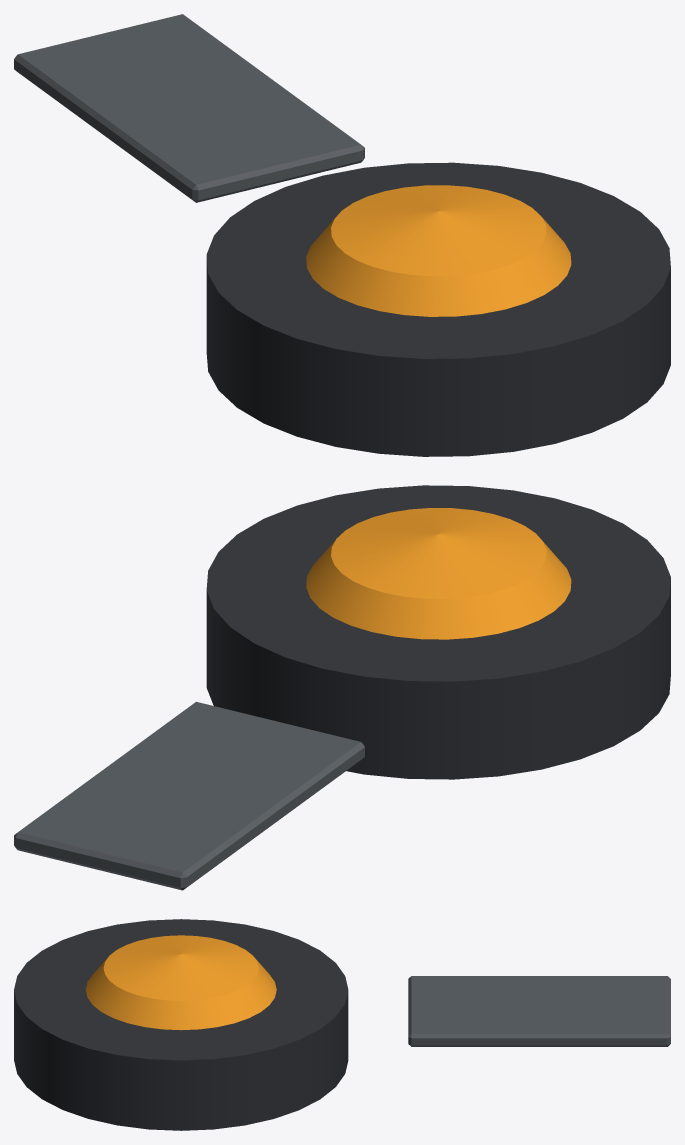
File: ec2_beacon.obj
3 renders of one model, top to bottom at view 1: azimuth 30°, elevation 25°; view 2: azimuth 150°, elevation 25°; view 3: azimuth 270°, elevation 25°, orthographic. The views are drawn at different scales.
Visible parts, largest first — view 1: ec2_beacon; view 2: ec2_beacon; view 3: ec2_beacon.
Part boxes in pixels (x1,y1,x2,y2): ec2_beacon: (14, 14, 670, 456); ec2_beacon: (14, 485, 670, 890); ec2_beacon: (14, 919, 670, 1130).
Bounding box in the file's own units: 0.28 × 0.098 × 0.55.
